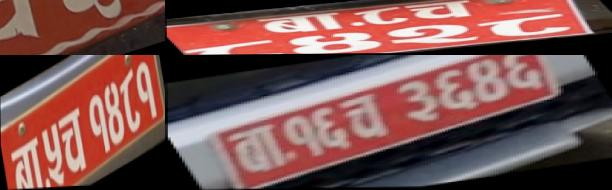1: (271, 110, 335, 164), (43, 0, 121, 28), (84, 89, 113, 163), (133, 56, 160, 130)
2: (373, 20, 487, 50)
3: (388, 77, 454, 128)
4: (455, 55, 524, 108), (273, 28, 389, 54), (102, 78, 128, 152)
5: (39, 118, 67, 188)
6: (418, 66, 488, 118), (487, 55, 560, 98), (302, 103, 366, 152)
8: (468, 12, 581, 41), (116, 66, 144, 142), (175, 37, 293, 55), (344, 5, 415, 28)
9: (0, 0, 43, 54)
ba: (212, 120, 304, 176), (248, 10, 352, 36), (8, 132, 49, 190)
cha: (330, 90, 408, 144), (56, 105, 91, 185), (398, 0, 489, 23)
